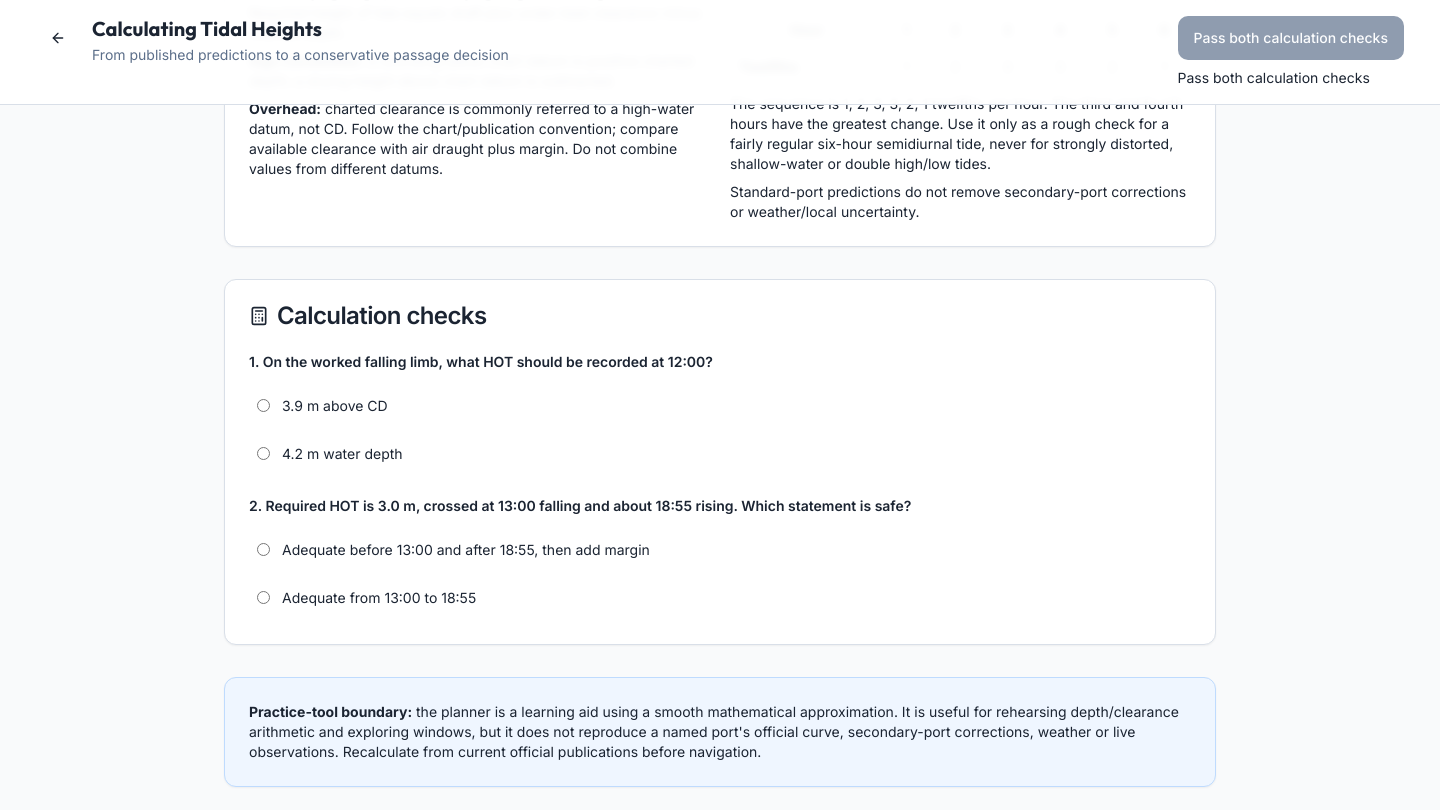
Test: Calculating Tidal Heights accessibility › supports calculation-check activation with visible keyboard focus styling
(page scrolled)
Click the radio button labelled "3.9 m above CD".
click(264, 406)  # box [257,399,270,412]
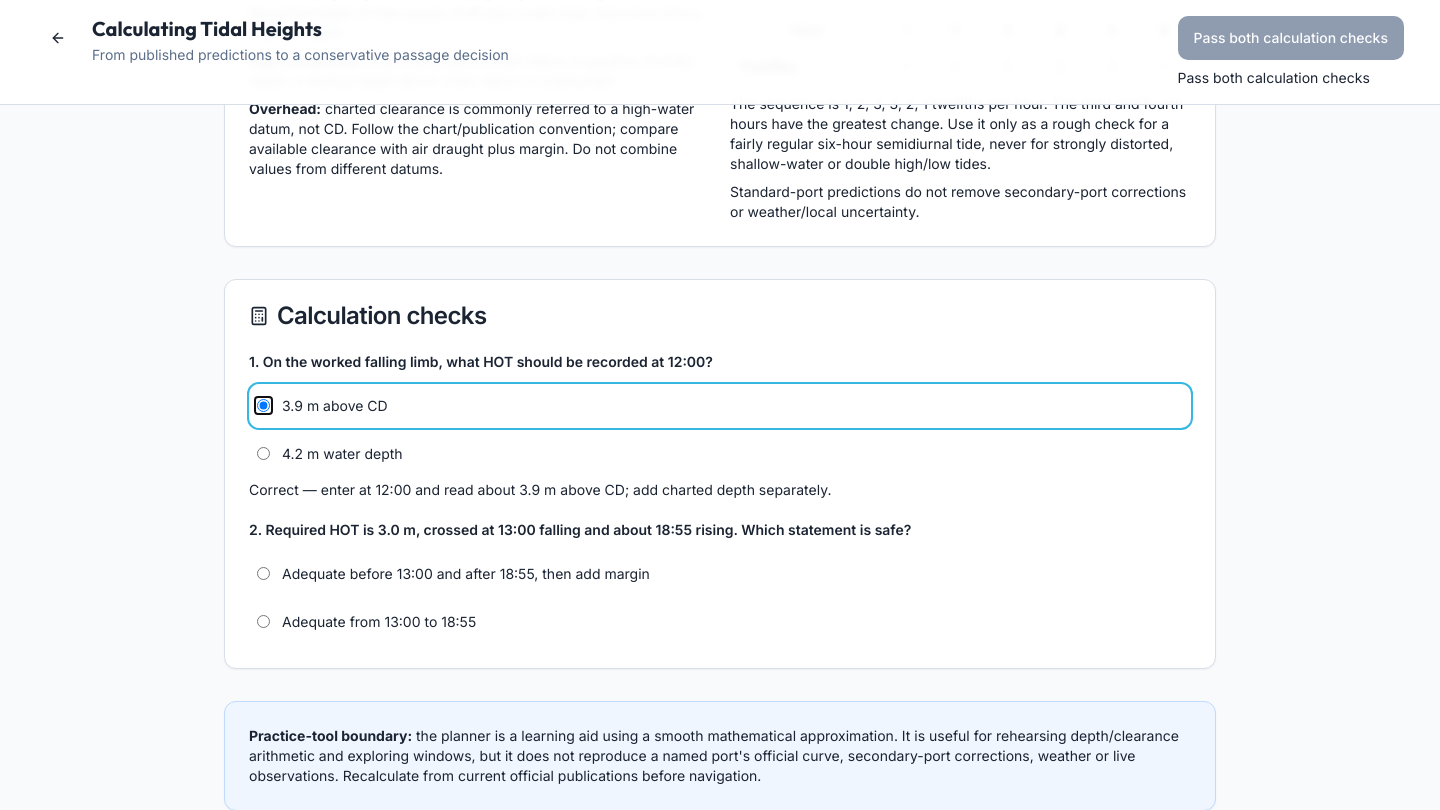
Expected: the text "Correct — enter at 12:00" is shown, [249,480,832,498]
Click the radio button labelled "Adequate before 13:00 and after 18:55, then add margin".
click(264, 574)  # box [257,567,270,580]
(page scrolled)
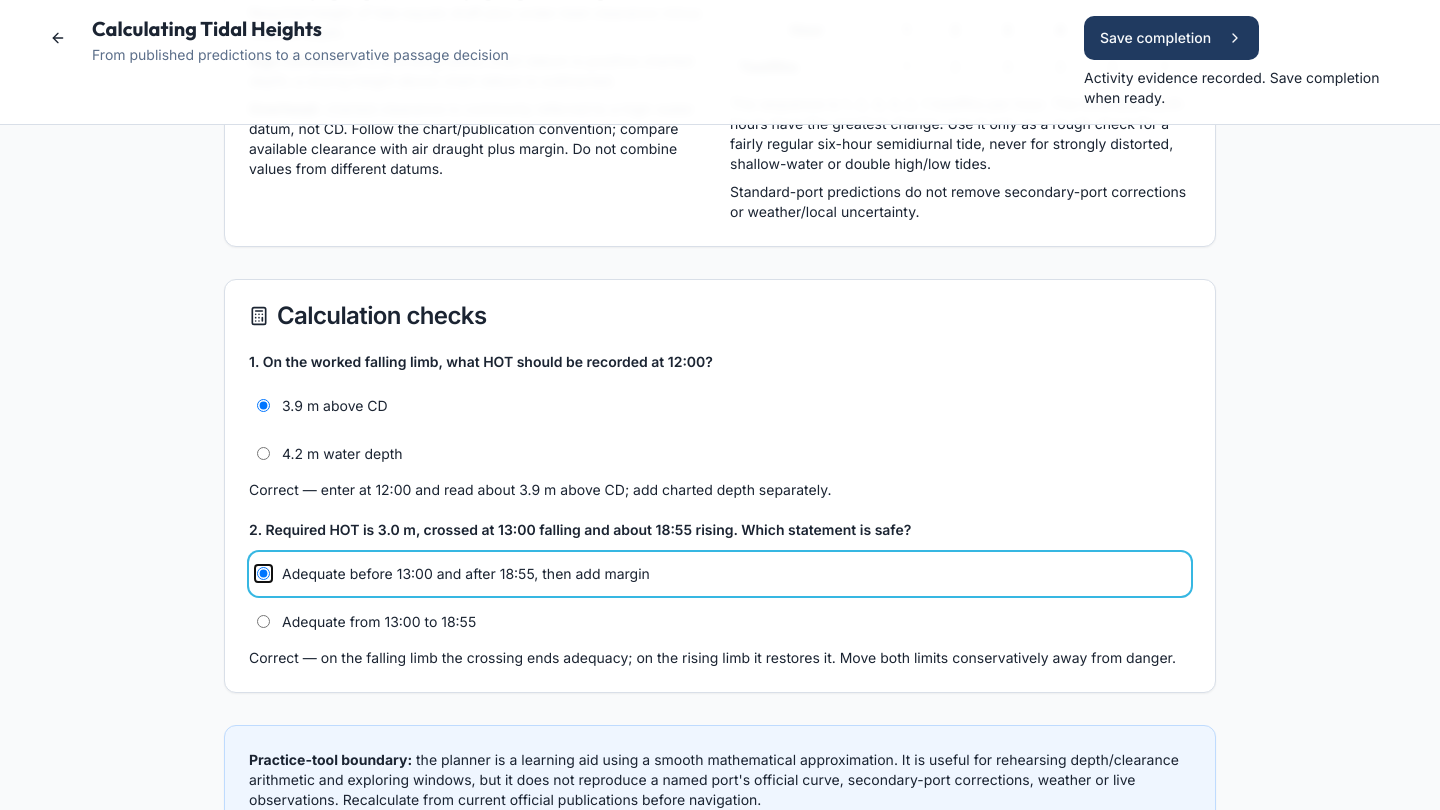
Expected: the text "Correct — on the falling limb" is shown, [249,648,1176,666]
